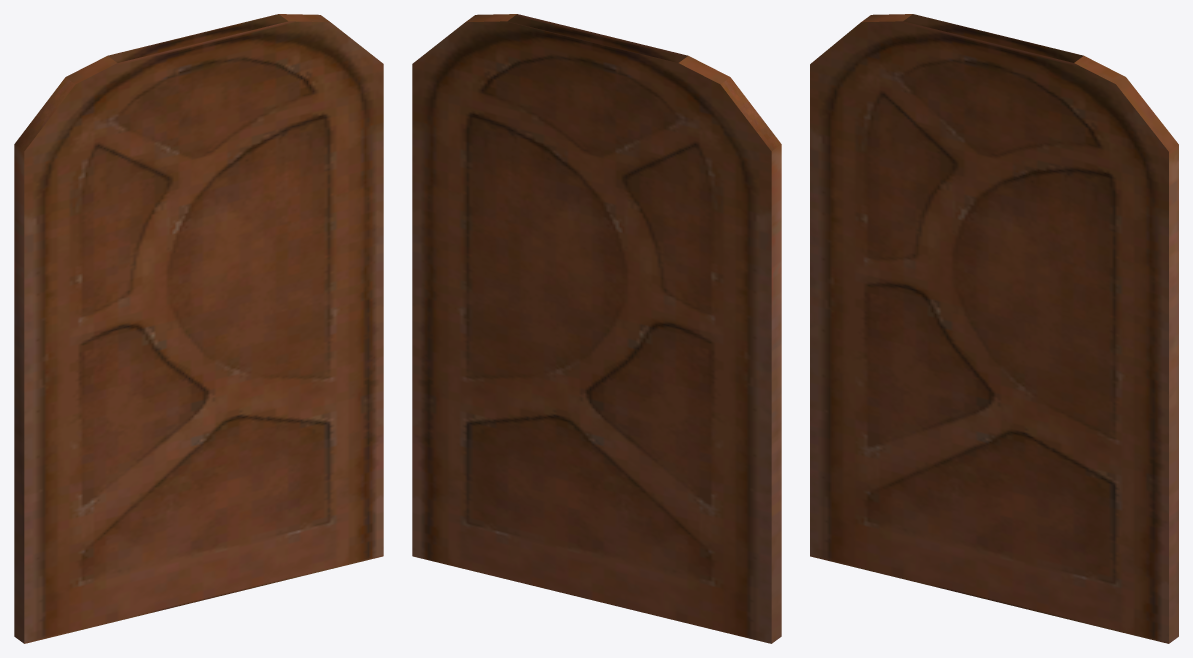
The model's file is door_tato_ply_house_s02_l0.fbx.
3 views of the same model, side by side, from view 1: azimuth 30°, elevation 25°; view 2: azimuth 150°, elevation 25°; view 3: azimuth 330°, elevation 25° (orthographic).
Visible parts, largest first — view 1: mesh_node; view 2: mesh_node; view 3: mesh_node.
Boxes of the visible parts, x1=… form: mesh_node: x1=14, y1=14, x2=383, y2=643; mesh_node: x1=412, y1=14, x2=781, y2=643; mesh_node: x1=810, y1=14, x2=1178, y2=643.
Size of the model in its own units: 2.03 by 3.01 by 0.0981.
1 material, 1 textured.
